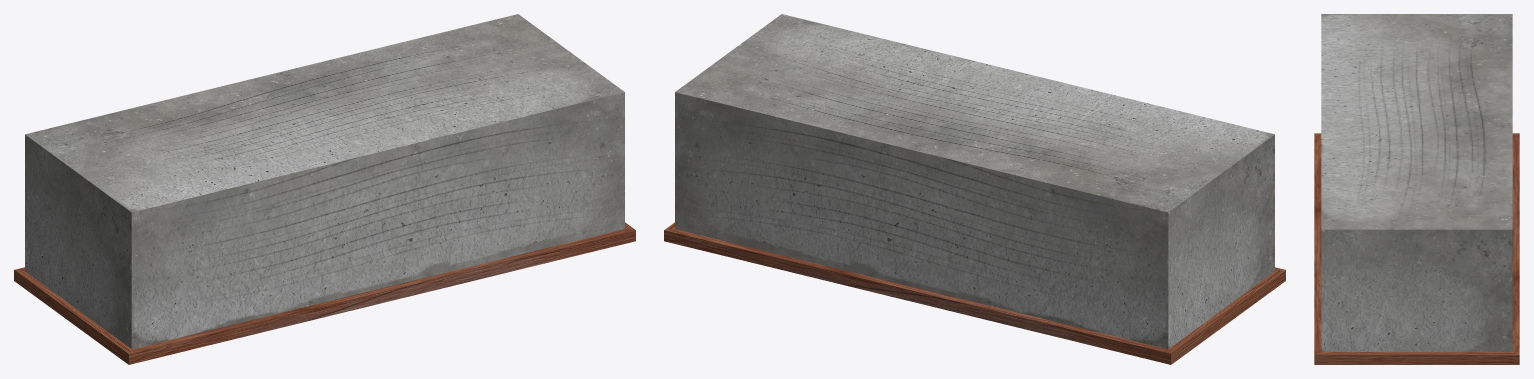
File: Bench_01.glb
3 renders of one model, left to right at view 1: azimuth 30°, elevation 25°; view 2: azimuth 150°, elevation 25°; view 3: azimuth 270°, elevation 25°, orthographic. The views are drawn at different scales.
Visible parts, largest first — view 1: Bench_01; view 2: Bench_01; view 3: Bench_01.
Boxes of the visible parts, x1,y1,x2,y2 form: Bench_01: (14,14,635,364); Bench_01: (664,14,1285,364); Bench_01: (1314,14,1519,364).
Size of the model in its own units: 1.97 by 0.55 by 0.7735.
1 material, 1 textured.
